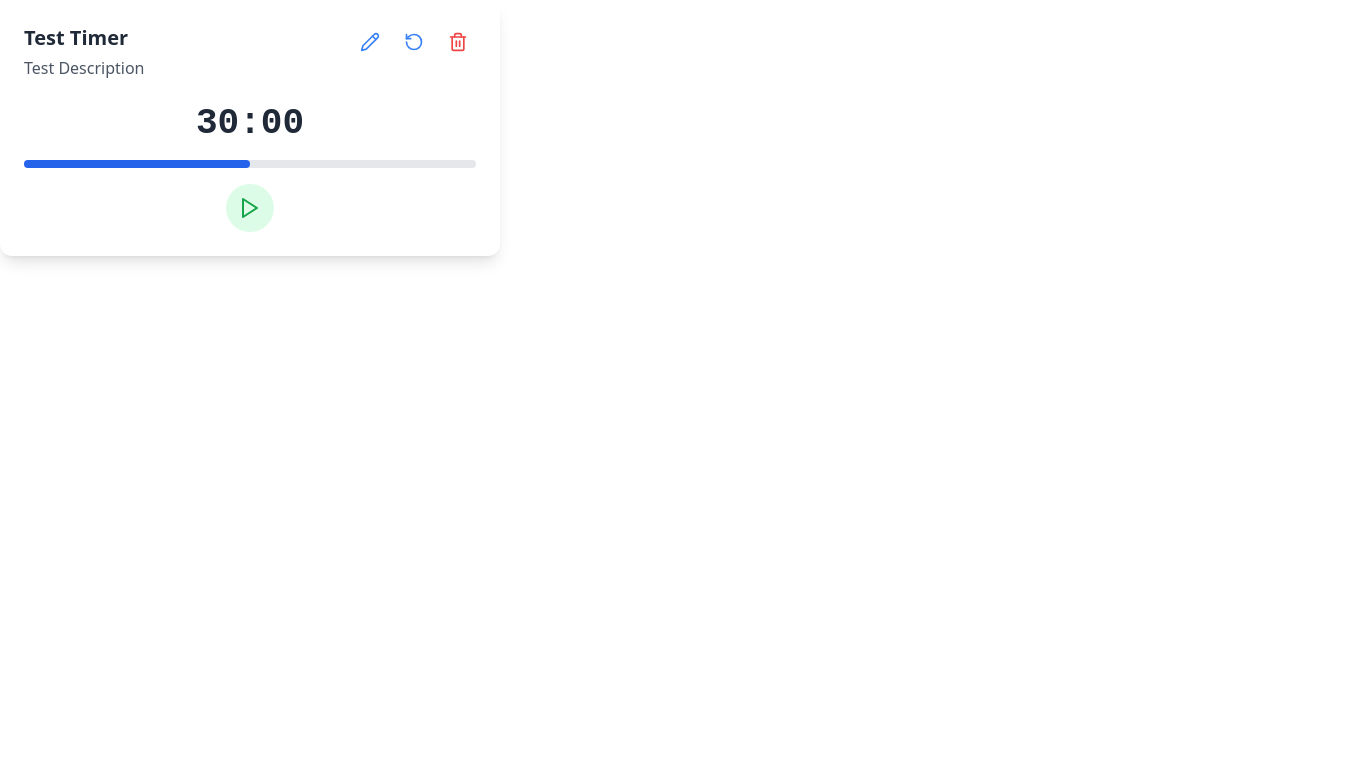
Test case: TimerItem › toggles the edit modal when edit button is clicked
Click the button titled "Edit Timer". click: [370, 42]
box: x1=352 y1=24 x2=388 y2=60
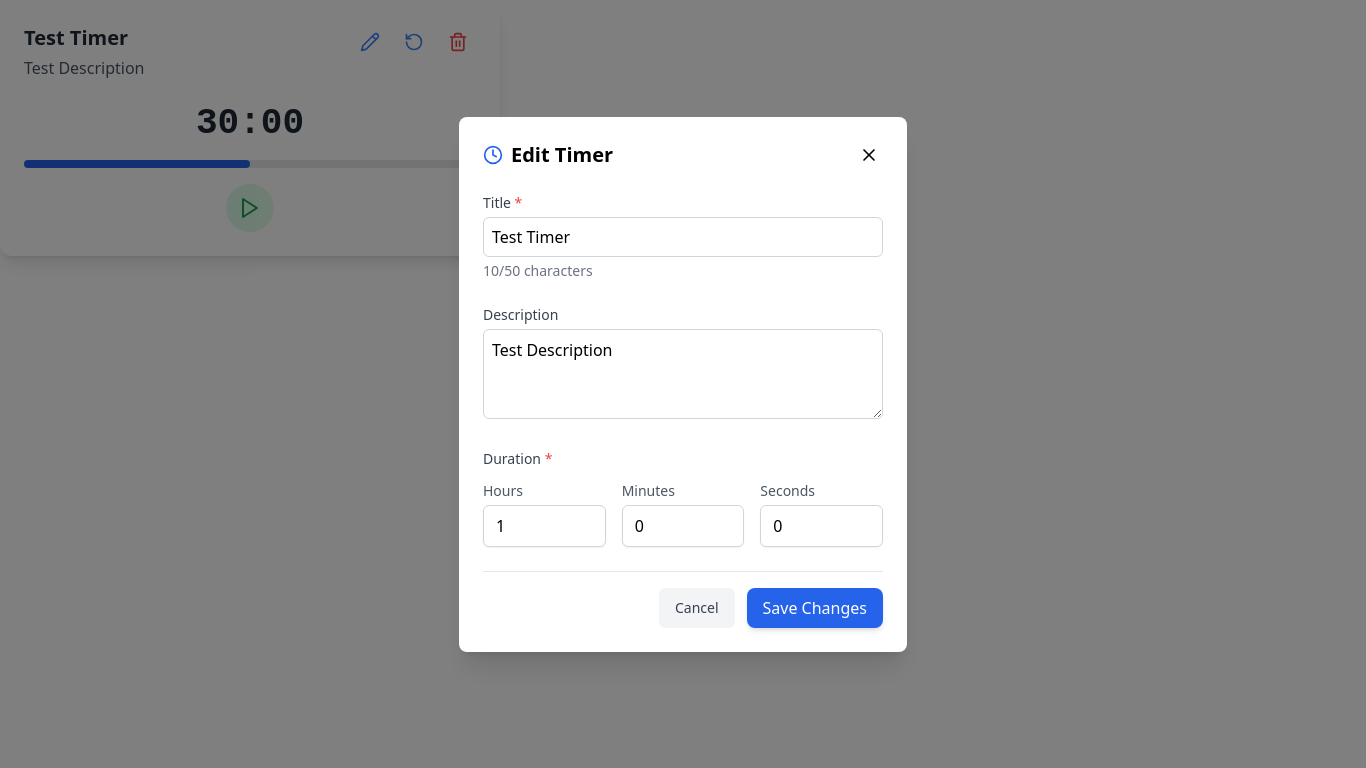
Expected: the heading "Edit Timer" is shown, x1=511 y1=140 x2=613 y2=168
